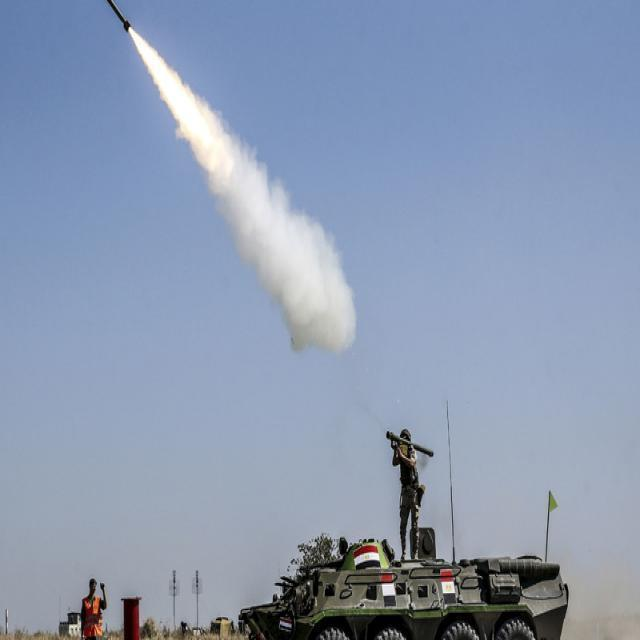missile: (105, 0, 135, 34)
